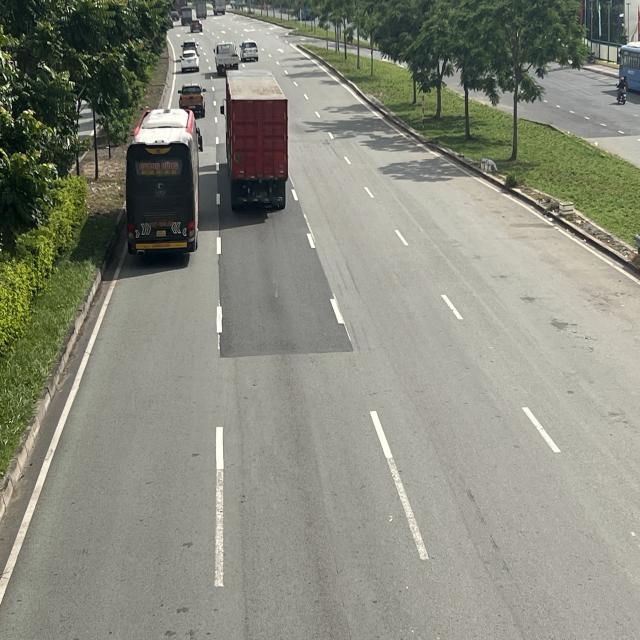car: (178, 83, 206, 112), (240, 40, 260, 64), (179, 50, 200, 72), (181, 38, 198, 52), (189, 19, 204, 33)
coach: (124, 107, 203, 256)
container: (220, 71, 288, 210)
truck: (214, 41, 240, 73), (212, 0, 228, 17), (180, 6, 192, 27), (196, 1, 207, 19)
